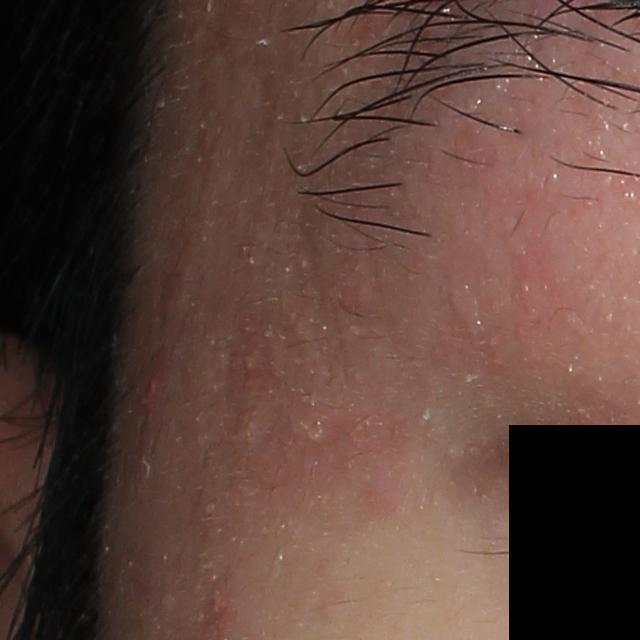papule: (139, 373, 160, 398)
